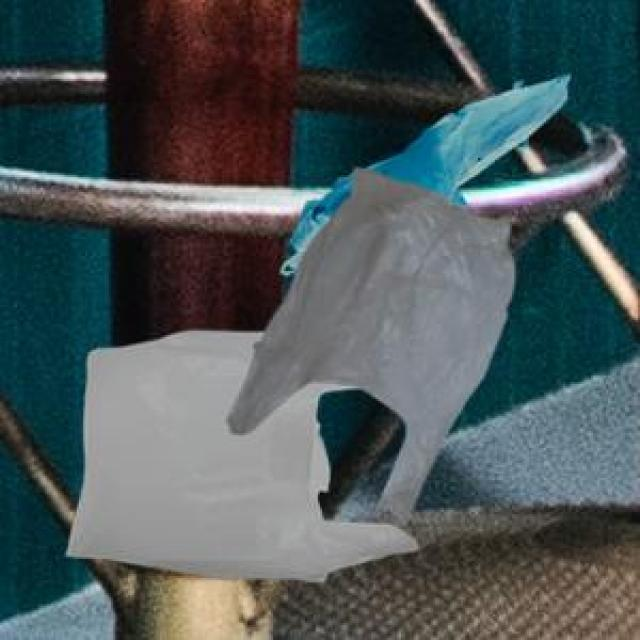Single-layer Plastic: (228, 170, 514, 512), (68, 331, 416, 579), (369, 75, 568, 204), (281, 176, 352, 278)
